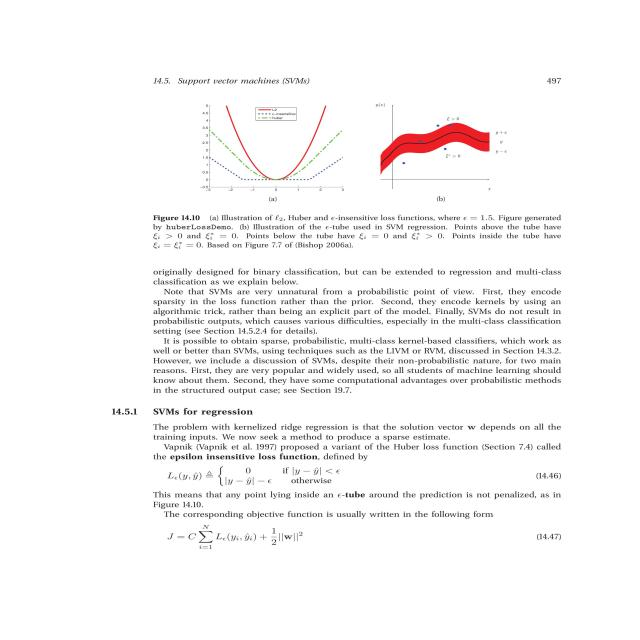diagram: (138, 92, 608, 264)
